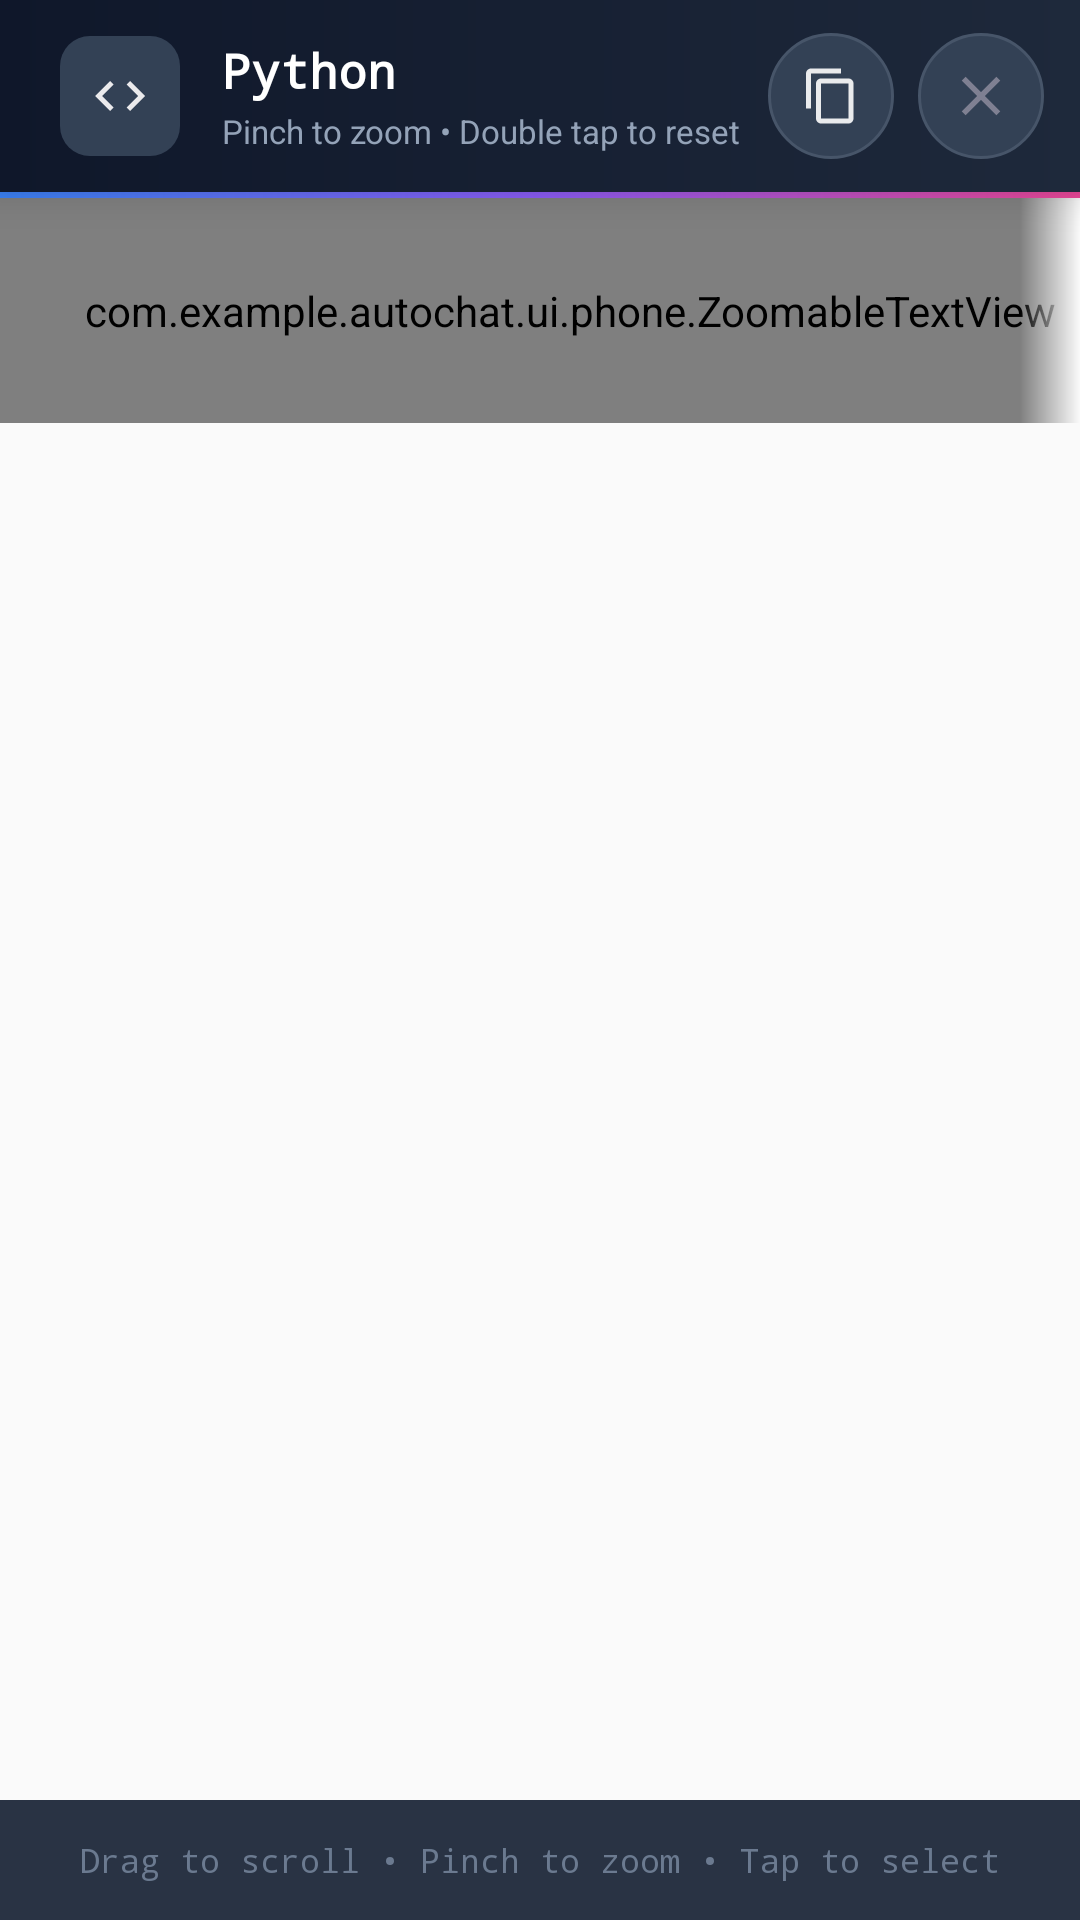

Where icons sit on this 1080×1920 app screen, as [left=x1, top=y1, right=x2, bottom=y2]:
close: [left=962, top=77, right=1000, bottom=115]
code: [left=95, top=81, right=145, bottom=111]
